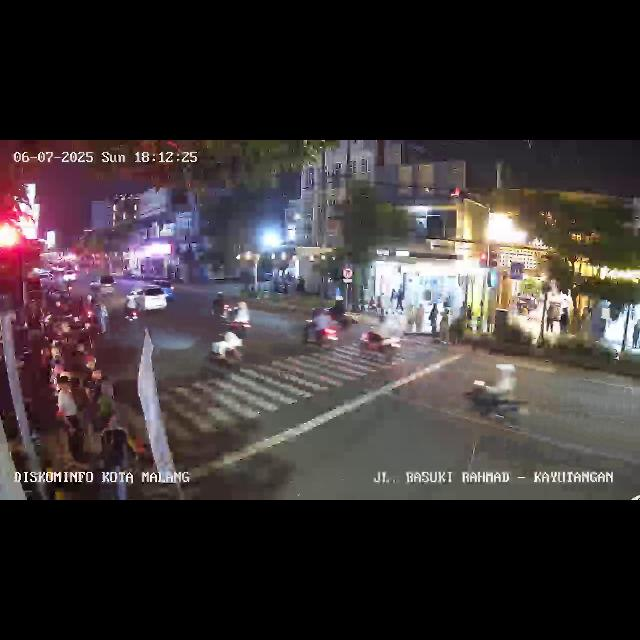car: (114, 282, 170, 314)
motorcycle: (464, 362, 528, 428), (205, 322, 245, 376), (358, 322, 402, 366), (300, 307, 340, 353), (232, 302, 252, 341), (210, 292, 233, 321), (124, 292, 140, 324)
person: (99, 412, 140, 500), (54, 377, 84, 477), (439, 308, 451, 346), (414, 303, 426, 335), (558, 307, 570, 337), (428, 302, 438, 336), (396, 284, 406, 314), (548, 302, 556, 336), (632, 318, 640, 350), (390, 288, 398, 314)
